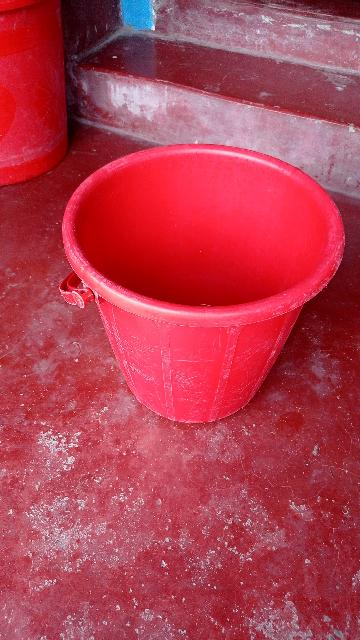hardplastic: (49, 157, 348, 435)
